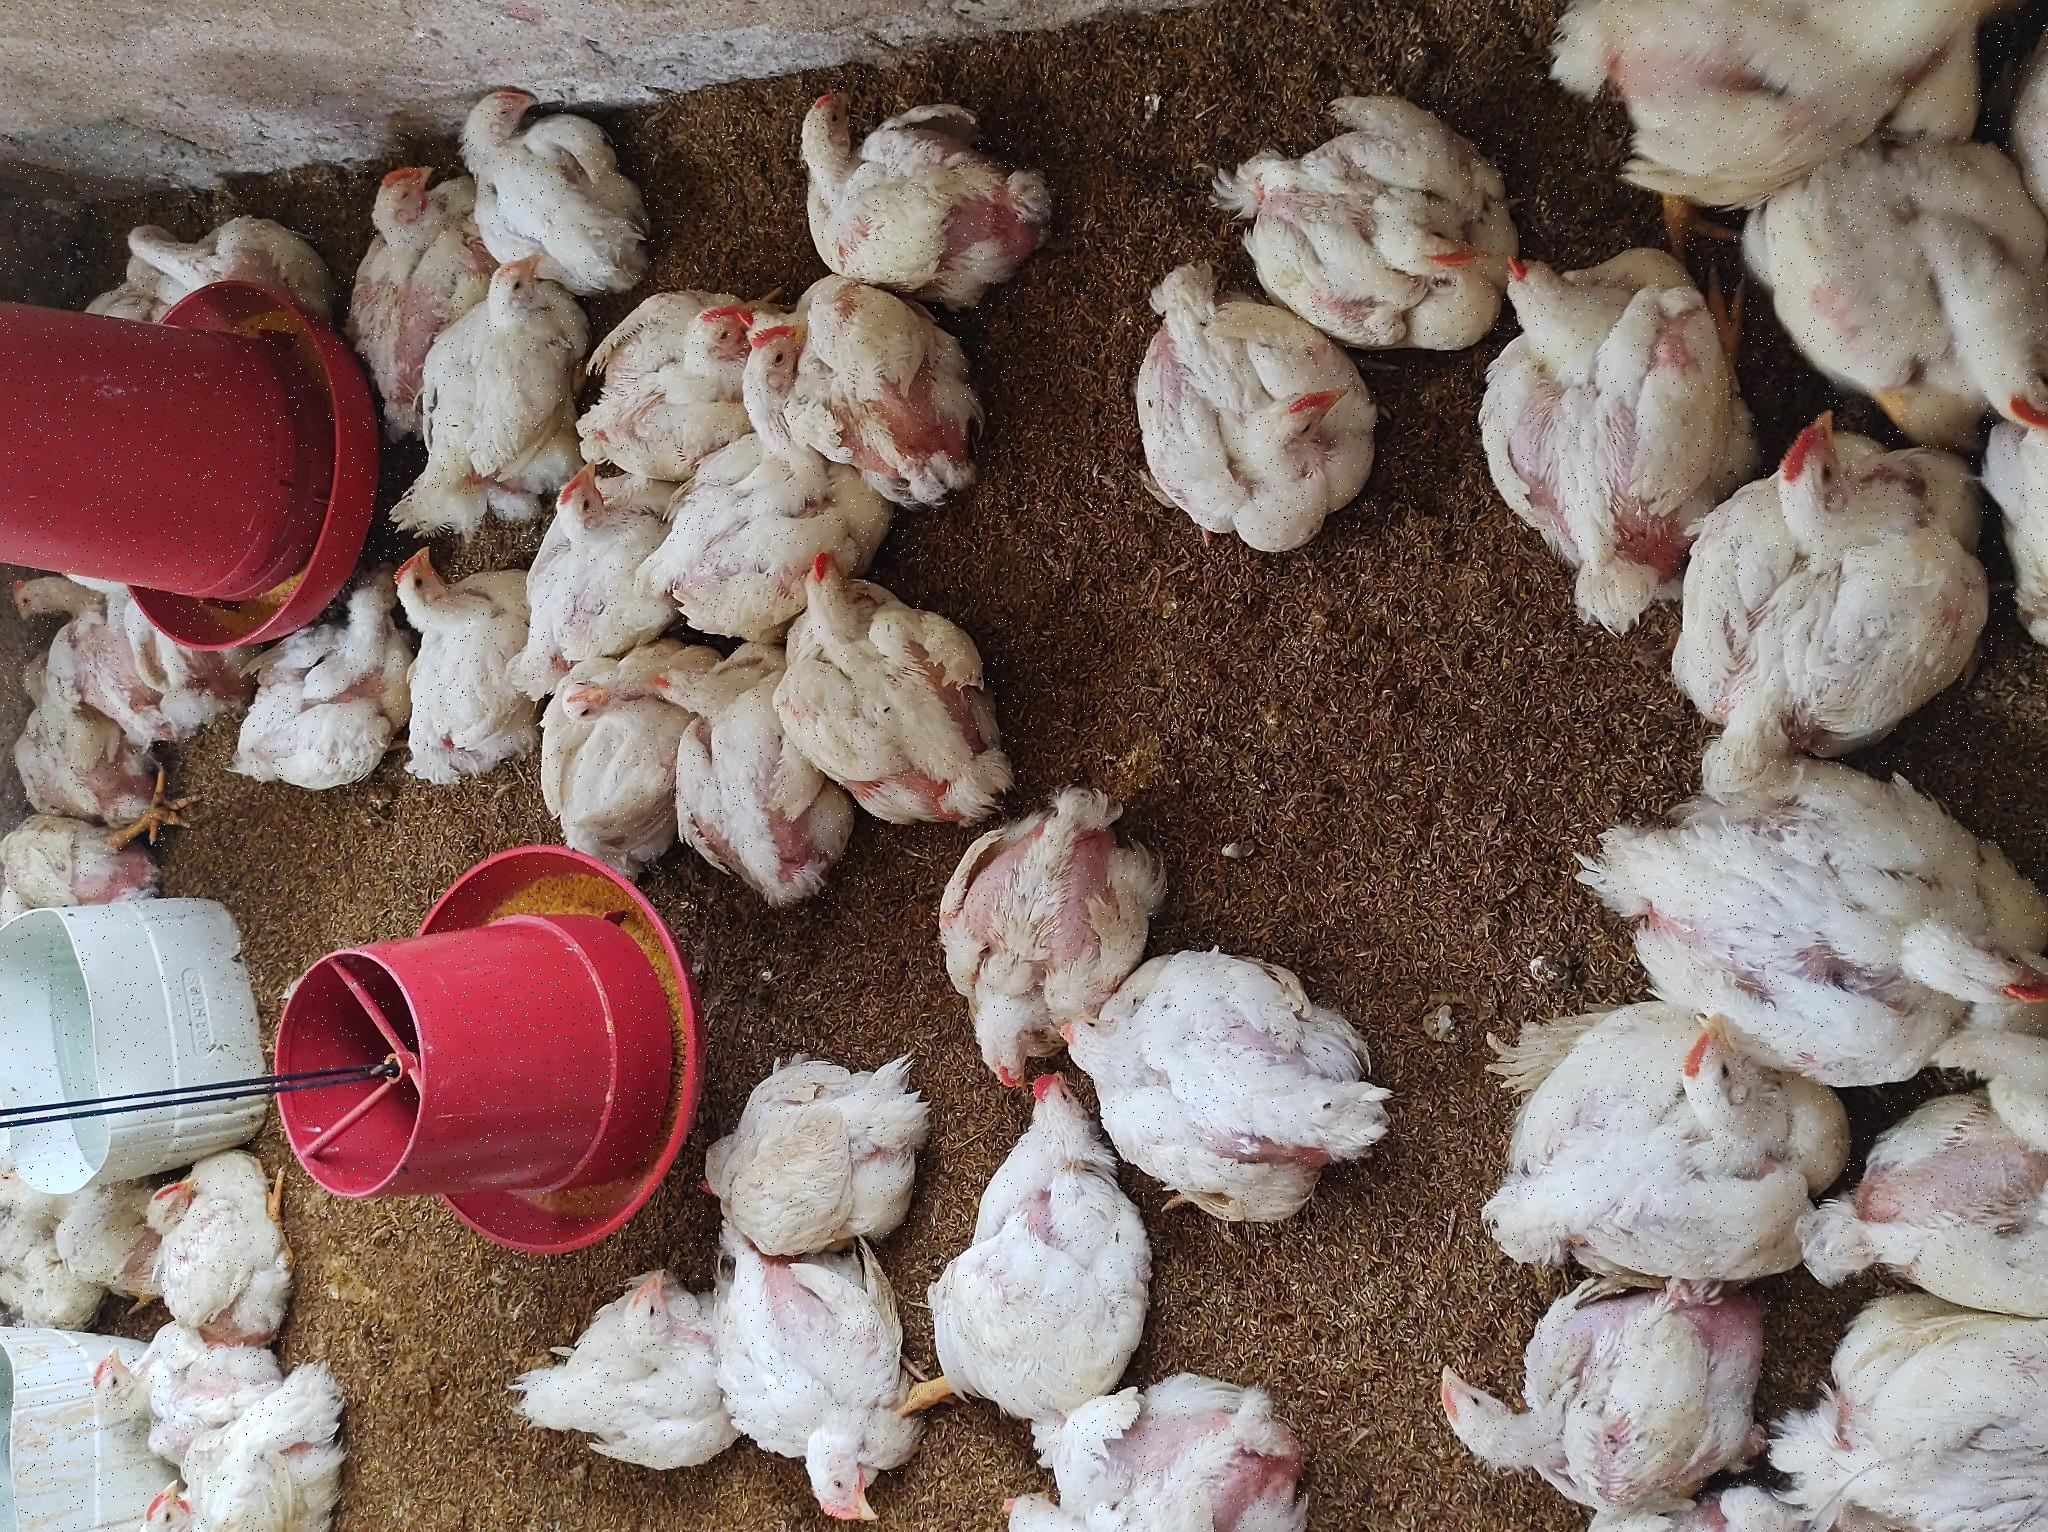Pollos: (306, 1060, 565, 1373), (98, 903, 454, 1130), (1191, 1241, 1458, 1505), (2, 998, 203, 1324), (449, 946, 748, 1165), (10, 708, 282, 932), (997, 1146, 1197, 1402), (735, 789, 978, 995), (51, 492, 269, 723), (1245, 792, 1438, 1049), (1018, 789, 1256, 986), (627, 657, 870, 845), (290, 702, 502, 912), (734, 212, 944, 414), (1248, 460, 1458, 657), (2, 151, 177, 375), (191, 137, 401, 306), (1015, 410, 1266, 550), (883, 510, 1099, 661), (734, 381, 968, 520), (1168, 325, 1384, 468), (66, 61, 212, 264), (1075, 579, 1252, 747), (832, 2, 991, 174), (607, 2, 734, 193), (960, 1464, 1277, 1532), (257, 1463, 557, 1532), (39, 1439, 241, 1532), (713, 2, 819, 158), (703, 534, 854, 639), (1231, 117, 1340, 257), (1096, 739, 1208, 803), (306, 2, 388, 64)
